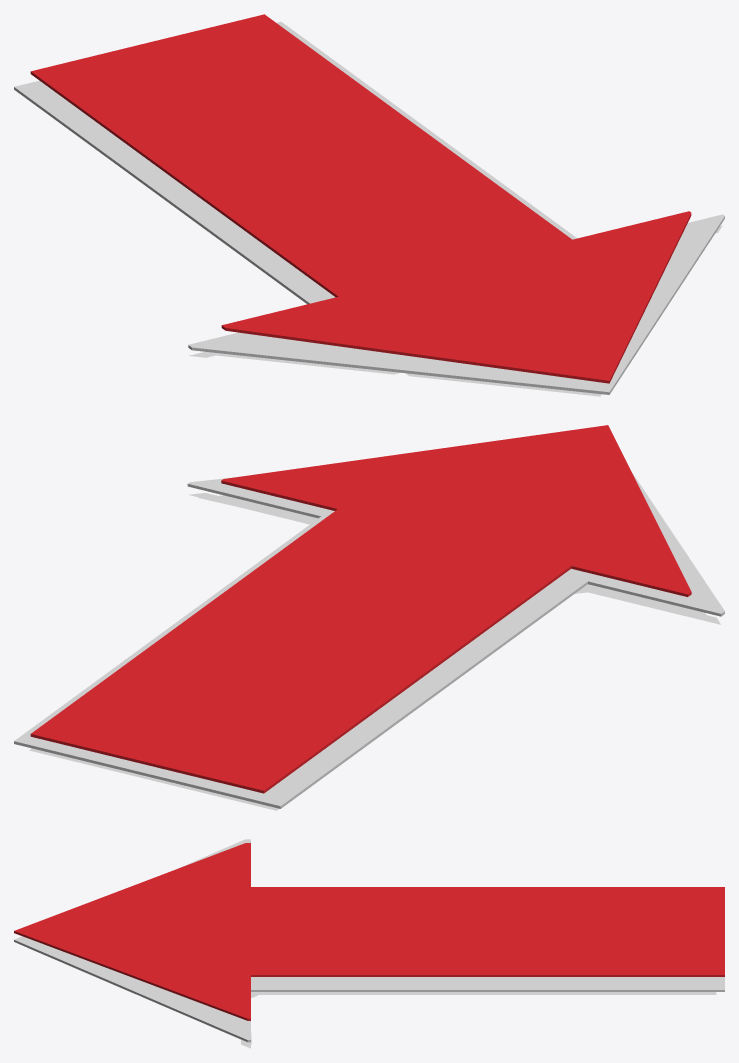
File: arrow.fbx
The picture shows the model from 3 angles, top to bottom: view 1: azimuth 30°, elevation 25°; view 2: azimuth 150°, elevation 25°; view 3: azimuth 270°, elevation 25°; orthographic projection. The views are drawn at different scales.
Visible parts, largest first — view 1: Plane.001, Plane, Plane.002; view 2: Plane.001, Plane, Plane.002; view 3: Plane.001, Plane, Plane.002.
Boxes of the visible parts, x1,y1,x2,y2 form: Plane.001: [30, 14, 691, 383]; Plane: [14, 21, 724, 394]; Plane.002: [188, 225, 722, 396]; Plane.001: [30, 425, 691, 793]; Plane: [14, 472, 724, 808]; Plane.002: [29, 493, 720, 810]; Plane.001: [14, 843, 724, 1020]; Plane: [14, 839, 724, 1042]; Plane.002: [28, 948, 716, 1048].
Size of the model in its own units: 200 by 8.03 by 299.
